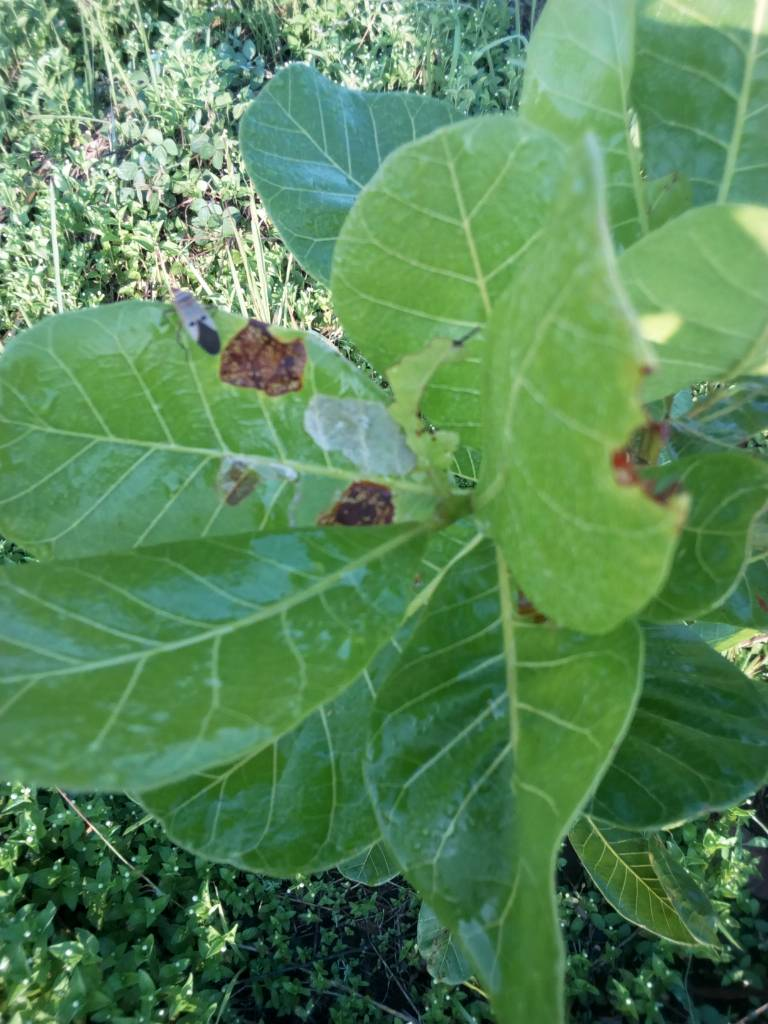Dysdercus wolkerii: (1, 272, 464, 613)
